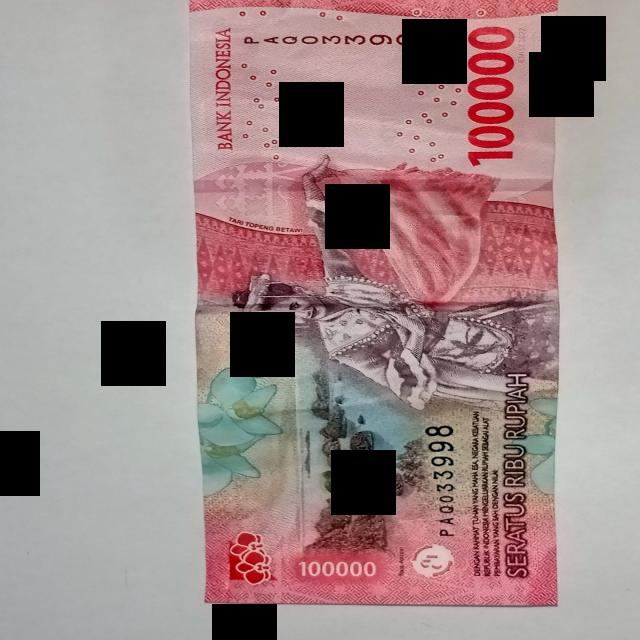seratusribu rupiah: (190, 0, 558, 604)
